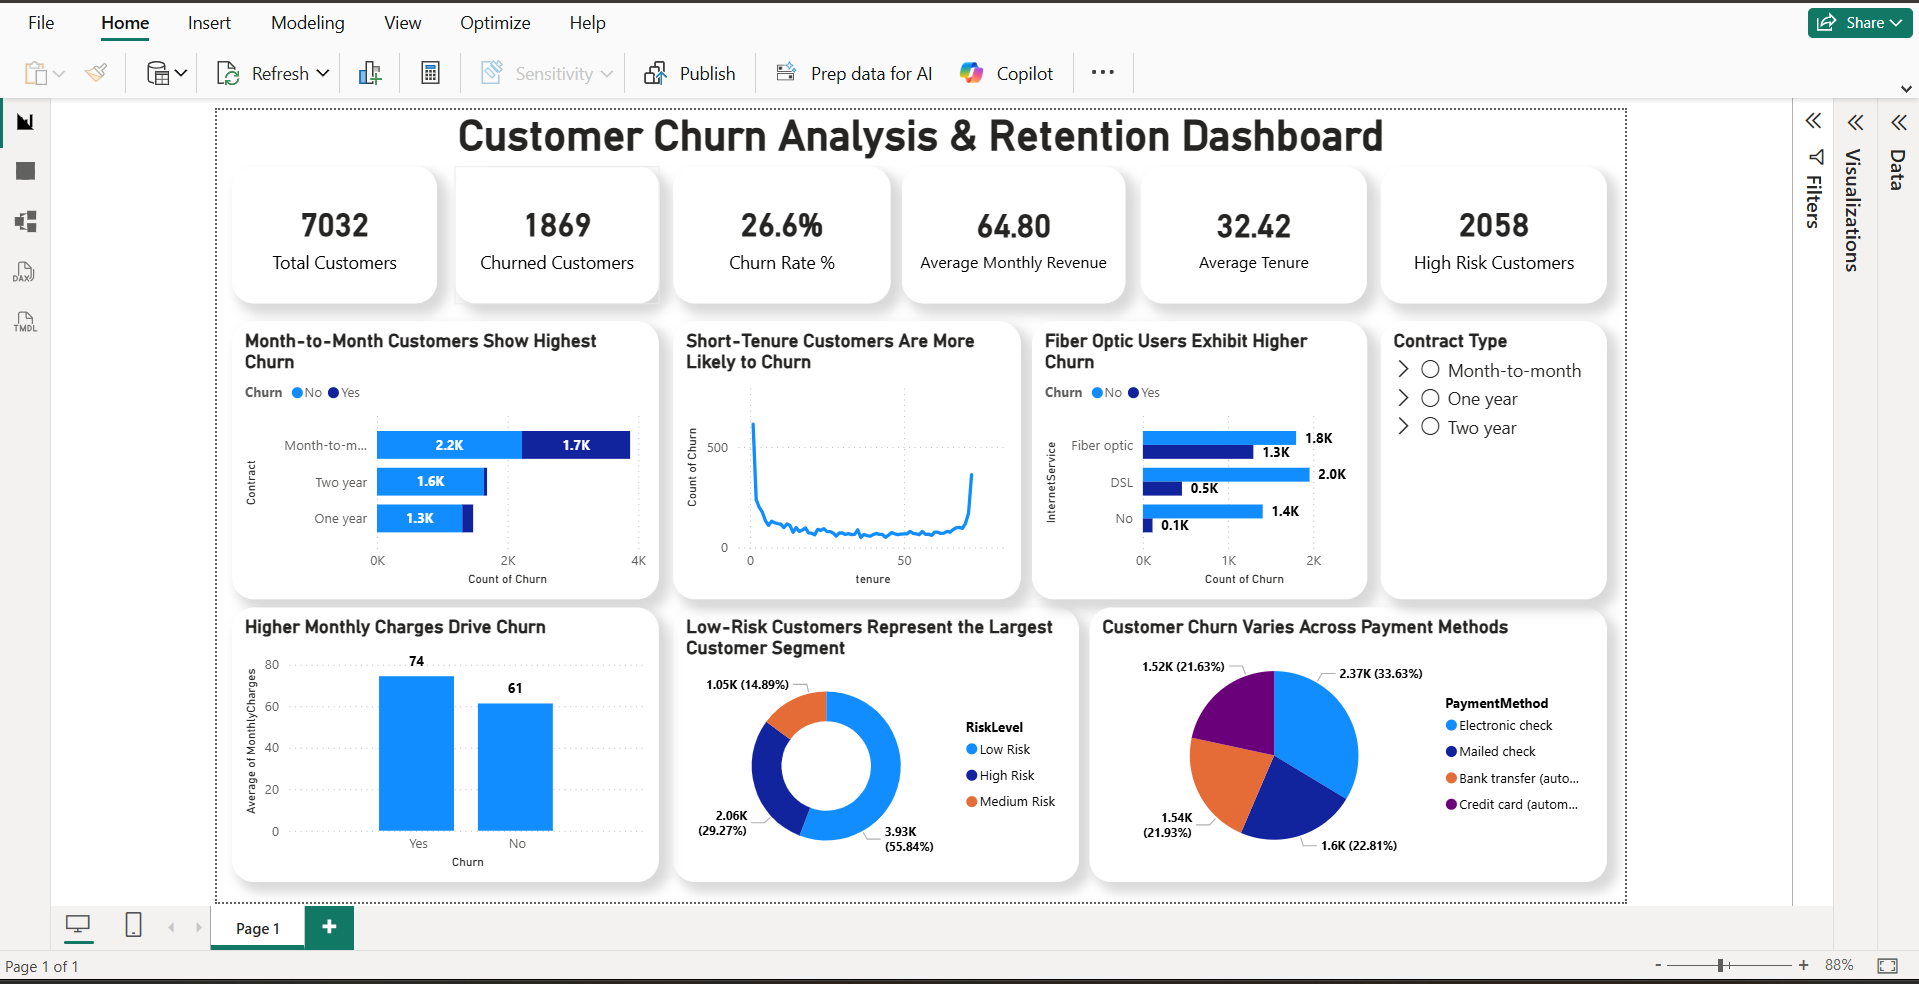

Layout of this report page (visuals, bound fields, positions):
{"tool":"powerbi","page":{"name":"Page 1","canvas":[1280,720],"ordinal":0},"visuals":[{"type":"card","fields":{"Values":["FINAL_DASHBOARD_DATA.Total Customers"]},"box":[13.7,50.8,186.6,124.9],"z":0},{"type":"card","fields":{"Values":["FINAL_DASHBOARD_DATA.Churned Customers"]},"box":[215.4,50.8,186.6,124.9],"z":1},{"type":"card","fields":{"Values":["FINAL_DASHBOARD_DATA.Churn Rate %"]},"box":[414.4,50.8,197.6,124.9],"z":2},{"type":"card","fields":{"Values":["FINAL_DASHBOARD_DATA.Avg Monthly Revenue"]},"box":[623,50.8,203.1,124.9],"z":3},{"type":"card","fields":{"Values":["FINAL_DASHBOARD_DATA.Avg Tenure"]},"box":[839.8,50.8,205.8,124.9],"z":4},{"type":"card","fields":{"Values":["FINAL_DASHBOARD_DATA.High Risk Customers"]},"box":[1058,50.8,205.8,124.9],"z":5},{"type":"barChart","title":"Month-to-Month Customers Show Highest Churn","fields":{"Category":["FINAL_DASHBOARD_DATA.Contract"],"Series":["FINAL_DASHBOARD_DATA.Churn"],"Y":["CountNonNull(FINAL_DASHBOARD_DATA.Churn)"]},"box":[13.7,192.1,388.3,252.5],"z":6},{"type":"donutChart","title":"Low-Risk Customers Represent the Largest Customer Segment","fields":{"Category":["FINAL_DASHBOARD_DATA.Risk_Level"],"Y":["CountNonNull(FINAL_DASHBOARD_DATA.Risk_Level)"]},"box":[414.4,452.8,369.1,249.7],"z":7},{"type":"clusteredColumnChart","title":"Higher Monthly Charges Drive Churn","fields":{"Category":["FINAL_DASHBOARD_DATA.Churn"],"Y":["Avg(FINAL_DASHBOARD_DATA.MonthlyCharges)"]},"box":[13.7,452.8,388.3,249.7],"z":8},{"type":"lineChart","title":"Short-Tenure Customers Are More Likely to Churn","fields":{"Category":["FINAL_DASHBOARD_DATA.tenure"],"Y":["CountNonNull(FINAL_DASHBOARD_DATA.Churn)"]},"box":[414.4,192.1,315.6,252.5],"z":9},{"type":"clusteredBarChart","title":"Fiber Optic Users Exhibit Higher Churn","fields":{"Category":["FINAL_DASHBOARD_DATA.InternetService"],"Series":["FINAL_DASHBOARD_DATA.Churn"],"Y":["CountNonNull(FINAL_DASHBOARD_DATA.Churn)"]},"box":[741,192.1,304.6,252.5],"z":10},{"type":"pieChart","title":"Customer Churn Varies Across Payment Methods","fields":{"Category":["FINAL_DASHBOARD_DATA.PaymentMethod"],"Y":["CountNonNull(FINAL_DASHBOARD_DATA.PaymentMethod)"]},"box":[793.1,452.8,470.7,249.7],"z":11},{"type":"listSlicer","title":"Contract Type","fields":{"Values":["FINAL_DASHBOARD_DATA.Contract","FINAL_DASHBOARD_DATA.InternetService","FINAL_DASHBOARD_DATA.PaymentMethod","FINAL_DASHBOARD_DATA.Risk_Level"]},"box":[1058,192.1,205.8,252.5],"z":12},{"type":"textbox","title":"Customer Churn Analysis & Retention Dashboard","box":[0,0,1280.3,50.8],"z":13}]}

Visuals, with their boxes on the page's 1280x720 design canvas (x1, y1, x2, y2). These are canvas units, not pixel positions in the 1919x984 screenshot, which may show the page scaled, cropped or inside an application window:
card - FINAL_DASHBOARD_DATA.Total Customers: crop(14, 51, 200, 176)
card - FINAL_DASHBOARD_DATA.Churned Customers: crop(215, 51, 402, 176)
card - FINAL_DASHBOARD_DATA.Churn Rate %: crop(414, 51, 612, 176)
card - FINAL_DASHBOARD_DATA.Avg Monthly Revenue: crop(623, 51, 826, 176)
card - FINAL_DASHBOARD_DATA.Avg Tenure: crop(840, 51, 1046, 176)
card - FINAL_DASHBOARD_DATA.High Risk Customers: crop(1058, 51, 1264, 176)
"Month-to-Month Customers Show Highest Churn" barChart: crop(14, 192, 402, 445)
"Low-Risk Customers Represent the Largest Customer Segment" donutChart: crop(414, 453, 784, 702)
"Higher Monthly Charges Drive Churn" clusteredColumnChart: crop(14, 453, 402, 702)
"Short-Tenure Customers Are More Likely to Churn" lineChart: crop(414, 192, 730, 445)
"Fiber Optic Users Exhibit Higher Churn" clusteredBarChart: crop(741, 192, 1046, 445)
"Customer Churn Varies Across Payment Methods" pieChart: crop(793, 453, 1264, 702)
"Contract Type" listSlicer: crop(1058, 192, 1264, 445)
"Customer Churn Analysis & Retention Dashboard" textbox: crop(0, 0, 1280, 51)
